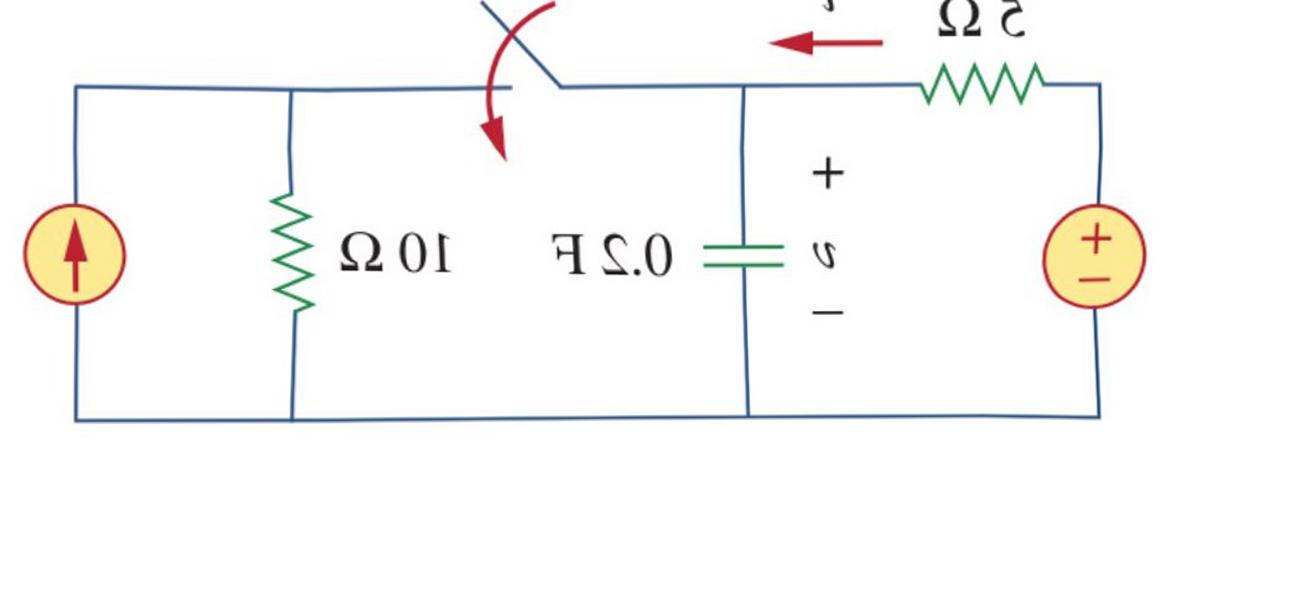Battery: (1007, 196, 1155, 334)
